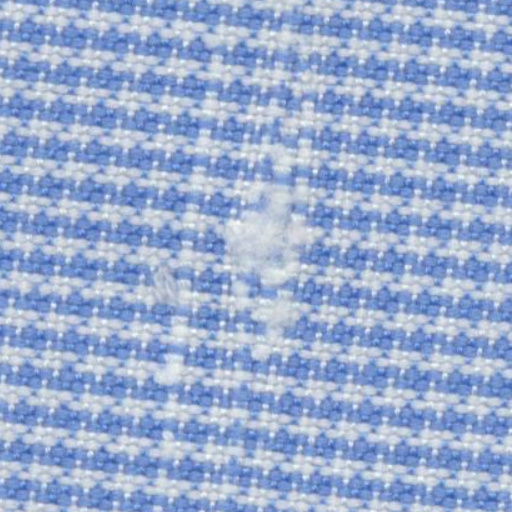MianQiu: (226, 194, 302, 278)
